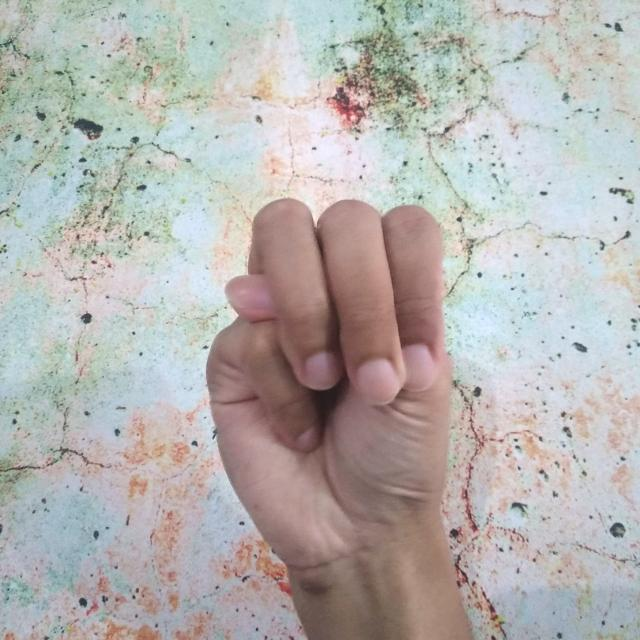M: (200, 191, 483, 640)
